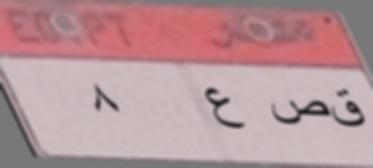8: (82, 80, 124, 120)
ain: (204, 80, 249, 137)
qaaf: (333, 86, 368, 137)
saad: (270, 95, 329, 136)
